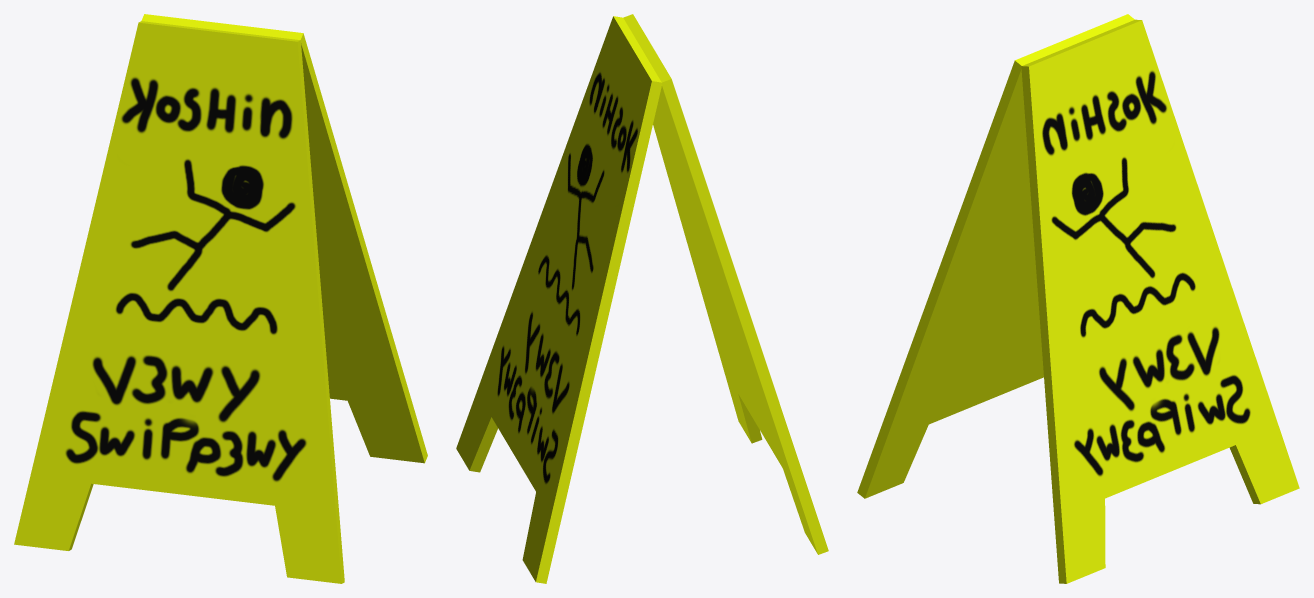
File: BathroomKoshinSign.glb
3 renders of one model, left to right at view 1: azimuth 30°, elevation 25°; view 2: azimuth 150°, elevation 25°; view 3: azimuth 270°, elevation 25°, orthographic. The views are drawn at different scales.
Parts seen in each view (by area): view 1: Plane.067; view 2: Plane.067; view 3: Plane.067.
Boxes of the visible parts, left/top/right/bottom form: Plane.067: left=14, top=14, right=427, bottom=583; Plane.067: left=456, top=14, right=828, bottom=583; Plane.067: left=857, top=14, right=1299, bottom=583.
Size of the model in its own units: 2.72 by 3.08 by 2.73.
Materials: 1 (1 with a texture image).
